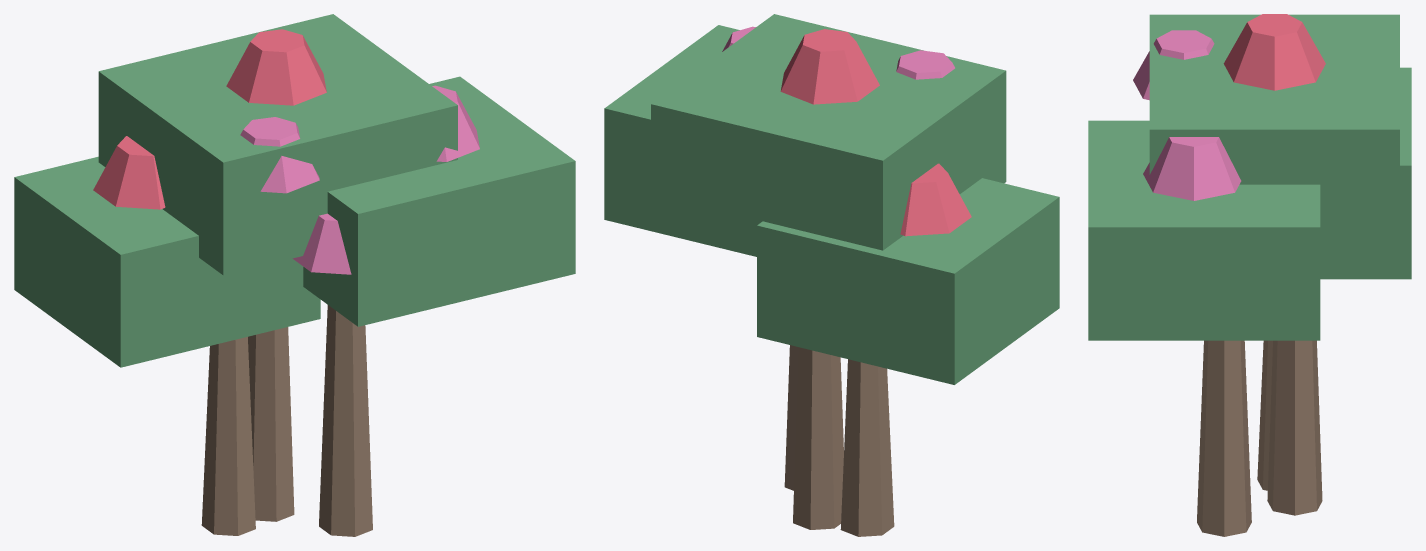
File: flora_46_rhododendron_simsii_cum_hoa_do_quyen_rung_langbiang_bidoup.glb
3 views of the same model, side by side, from view 1: azimuth 30°, elevation 25°; view 2: azimuth 150°, elevation 25°; view 3: azimuth 270°, elevation 25° (orthographic).
Visible parts, largest first — view 1: flora_46_rhododendron_simsii_cum_hoa_do_quyen_rung_langbiang; view 2: flora_46_rhododendron_simsii_cum_hoa_do_quyen_rung_langbiang; view 3: flora_46_rhododendron_simsii_cum_hoa_do_quyen_rung_langbiang.
Boxes of the visible parts, left/top/right/bottom form: flora_46_rhododendron_simsii_cum_hoa_do_quyen_rung_langbiang: left=14, top=14, right=575, bottom=536; flora_46_rhododendron_simsii_cum_hoa_do_quyen_rung_langbiang: left=604, top=14, right=1059, bottom=536; flora_46_rhododendron_simsii_cum_hoa_do_quyen_rung_langbiang: left=1088, top=14, right=1411, bottom=536.
Bounding box in the file's own units: 2.3 × 2.62 × 1.6.
